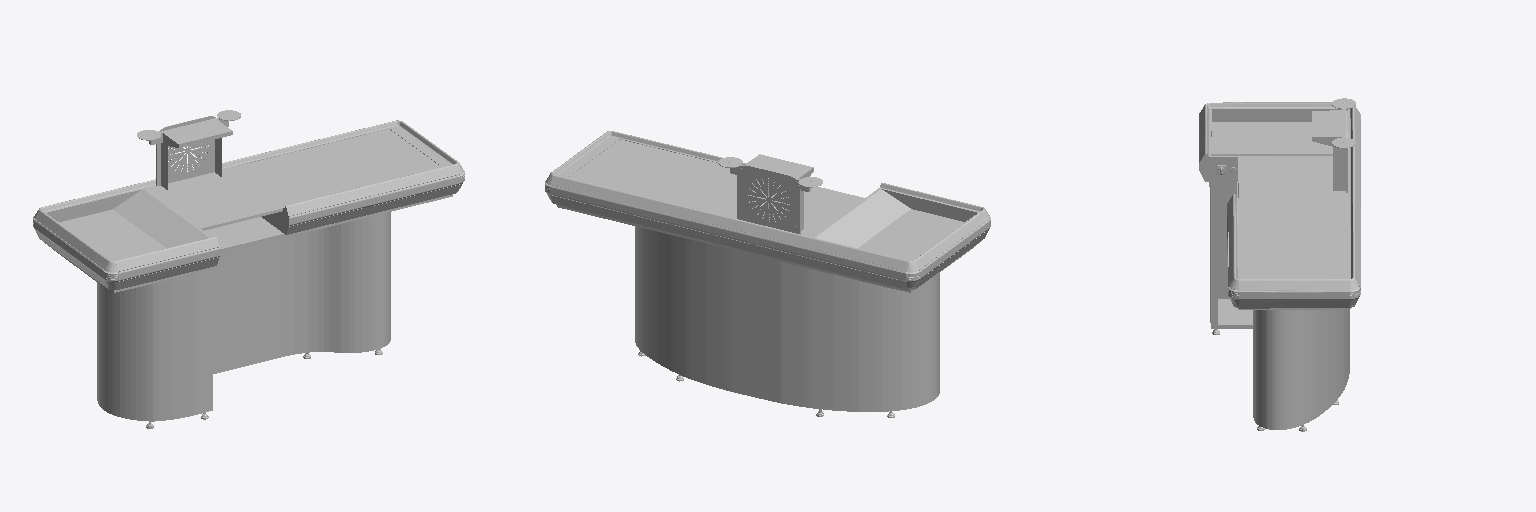
The model's file is cashier.obj.
3 views of the same model, side by side, from view 1: azimuth 30°, elevation 25°; view 2: azimuth 150°, elevation 25°; view 3: azimuth 270°, elevation 25° (orthographic).
Visible parts, largest first — view 1: checkout_desk_2, checkout_desk_1; view 2: checkout_desk_2, checkout_desk_1; view 3: checkout_desk_2, checkout_desk_1.
Boxes of the visible parts, box(x1,y1,x2,y2) form: checkout_desk_2: box(34, 121, 459, 421); checkout_desk_1: box(33, 110, 464, 428); checkout_desk_2: box(550, 131, 989, 411); checkout_desk_1: box(545, 131, 990, 417); checkout_desk_2: box(1199, 102, 1360, 429); checkout_desk_1: box(1207, 98, 1360, 431).
Size of the model in its own units: 220 by 133 by 82.37.